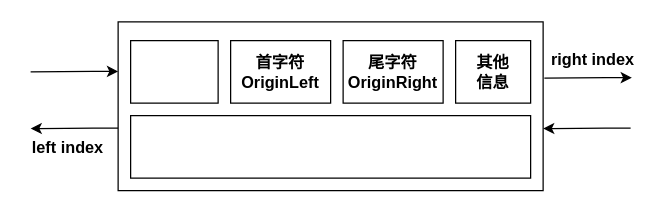
This 665x213 diagram has some shape labels left out. Each missing label, with the centre of its shape:
用户连续输入的字符串 （带删除标记）: [330,146]
首字符GID: [173,71]
